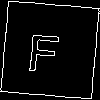F: (25, 24, 63, 73)
